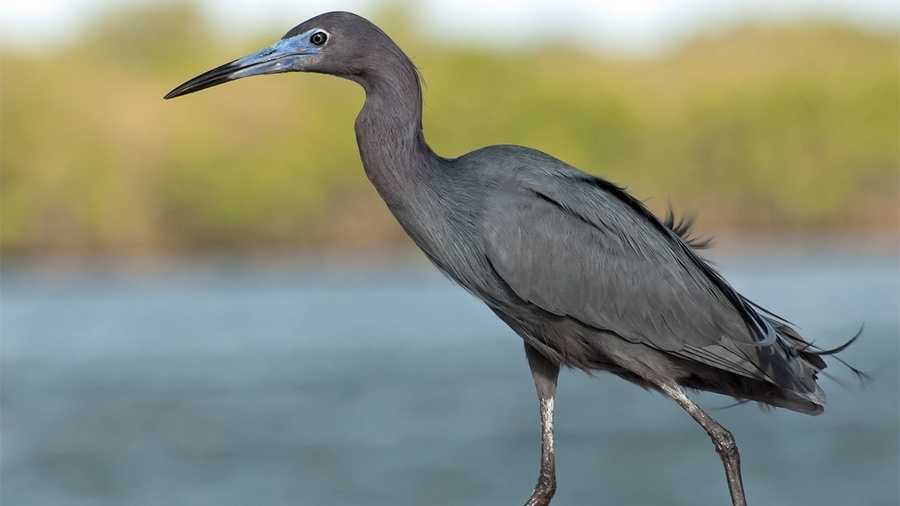heron: (154, 3, 860, 506)
